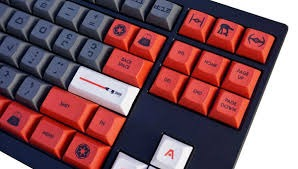keyboard: (4, 0, 289, 169)
